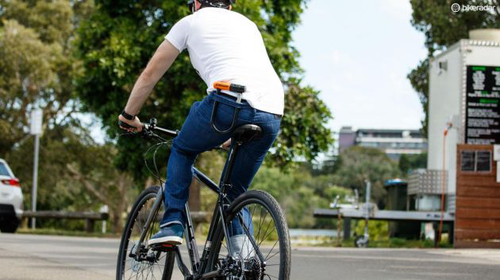bikerider: (93, 1, 327, 278)
